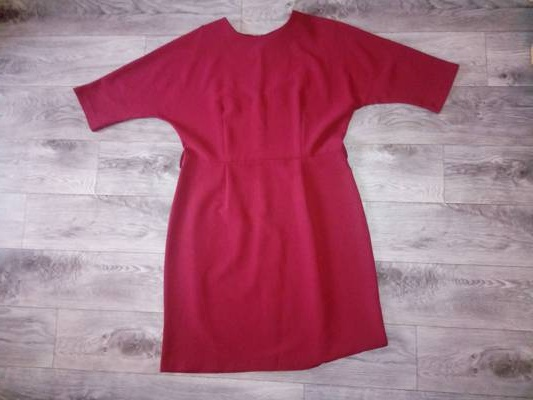Dress: (71, 8, 471, 380)
